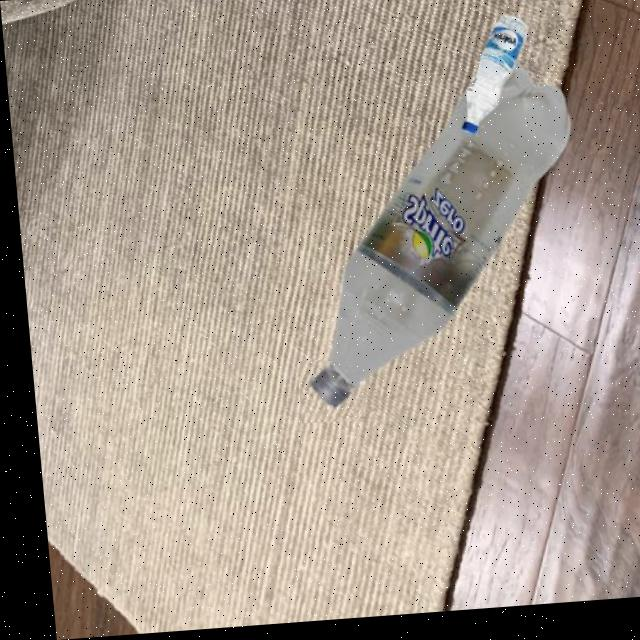plasticbottlecap: (290, 361, 358, 427)
